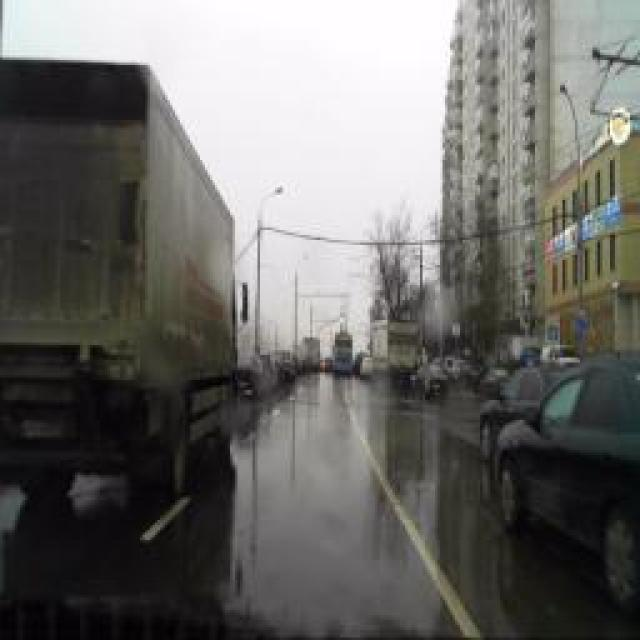sign: (549, 326, 556, 342)
